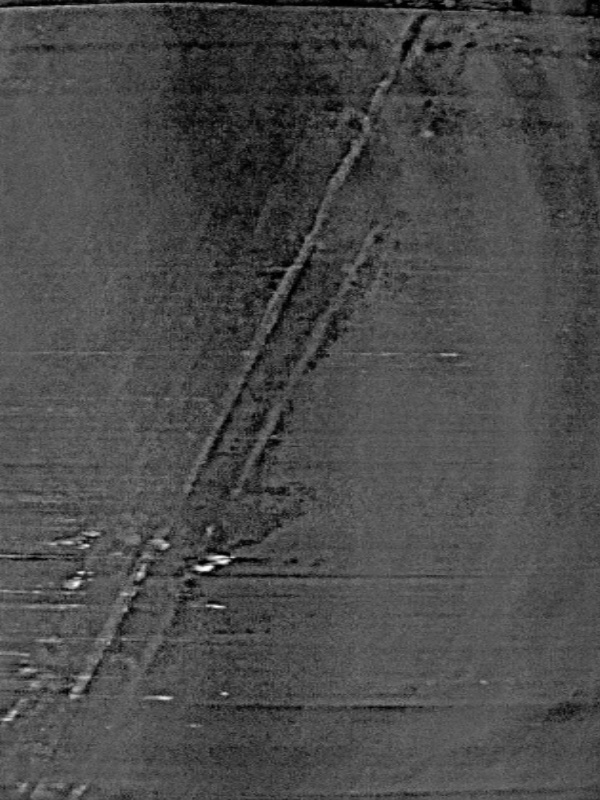splice_vulcanized: (1, 13, 474, 800)
